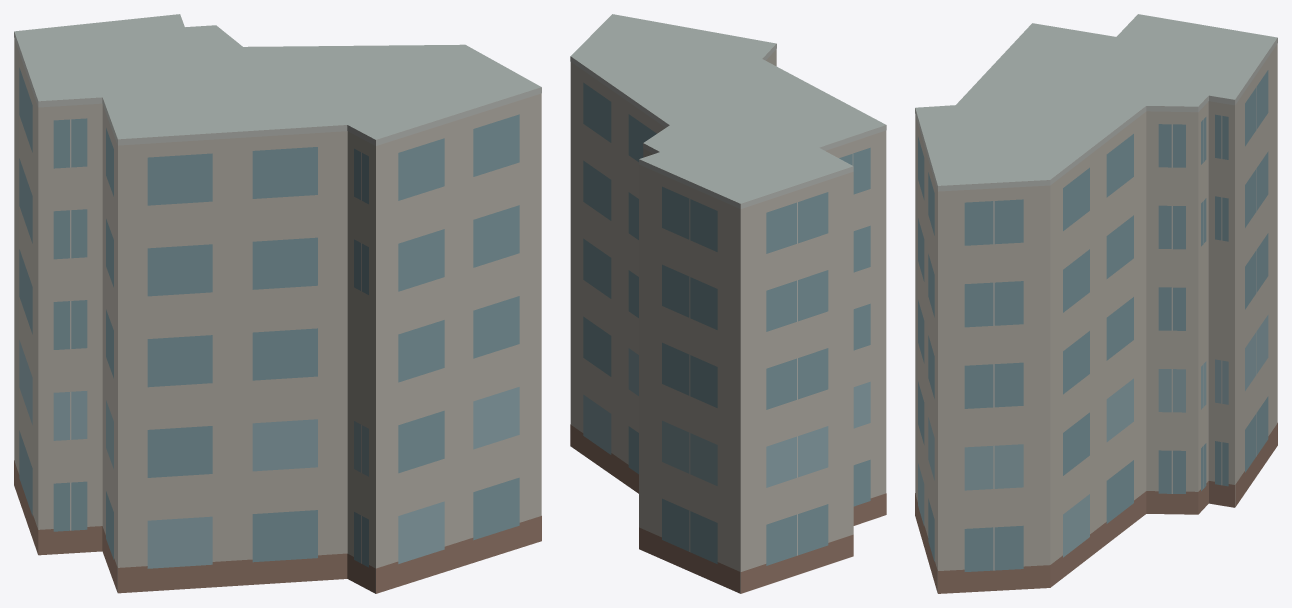
The model's file is survey-upis-32690396.glb.
3 views of the same model, side by side, from view 1: azimuth 30°, elevation 25°; view 2: azimuth 150°, elevation 25°; view 3: azimuth 270°, elevation 25° (orthographic). The views are drawn at different scales.
Parts seen in each view (by area): view 1: survey-upis-32690396.tmp; view 2: survey-upis-32690396.tmp; view 3: survey-upis-32690396.tmp.
Boxes of the visible parts, x1,y1,x2,y2 form: survey-upis-32690396.tmp: (14, 14, 541, 593); survey-upis-32690396.tmp: (570, 14, 886, 593); survey-upis-32690396.tmp: (915, 14, 1277, 593).
Size of the model in its own units: 16.1 by 17.8 by 14.35.
